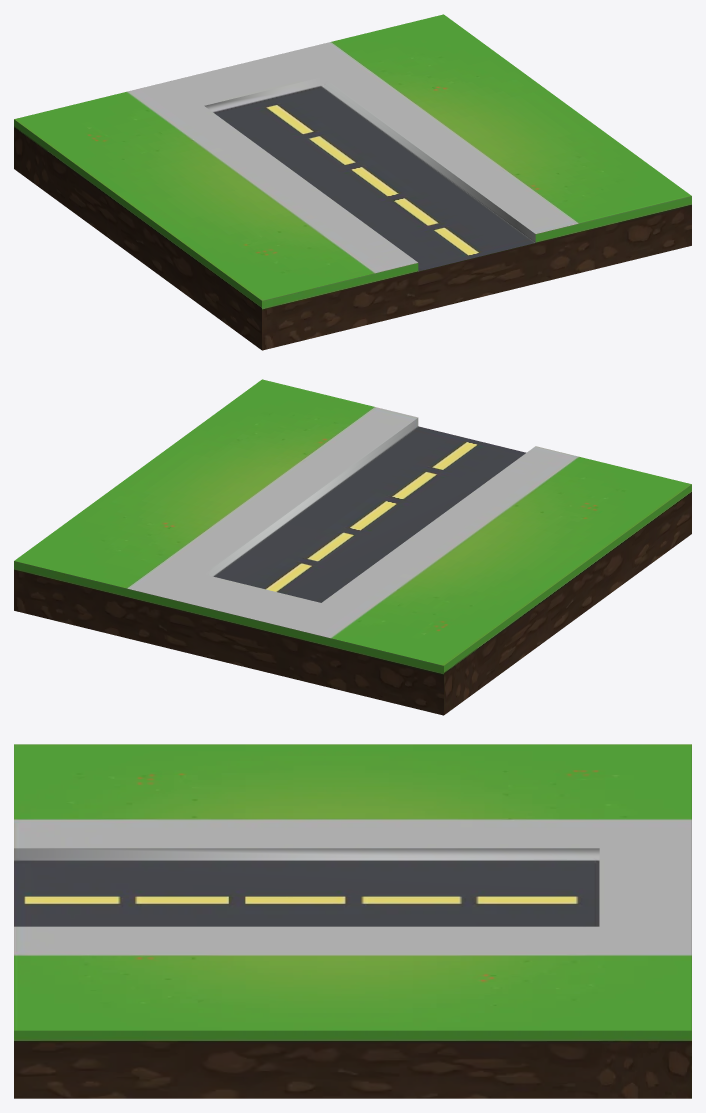
The model's file is city_road_06.glb.
The picture shows the model from 3 angles, top to bottom: view 1: azimuth 30°, elevation 25°; view 2: azimuth 150°, elevation 25°; view 3: azimuth 270°, elevation 25°; orthographic projection. The views are drawn at different scales.
Parts seen in each view (by area): view 1: road_06; view 2: road_06; view 3: road_06.
Part boxes in pixels (x1,y1,x2,y2): road_06: (14, 14, 691, 350); road_06: (14, 379, 691, 715); road_06: (14, 744, 691, 1098).
Size of the model in its own units: 22 by 2.43 by 22.
Materials: 1 (1 with a texture image).
